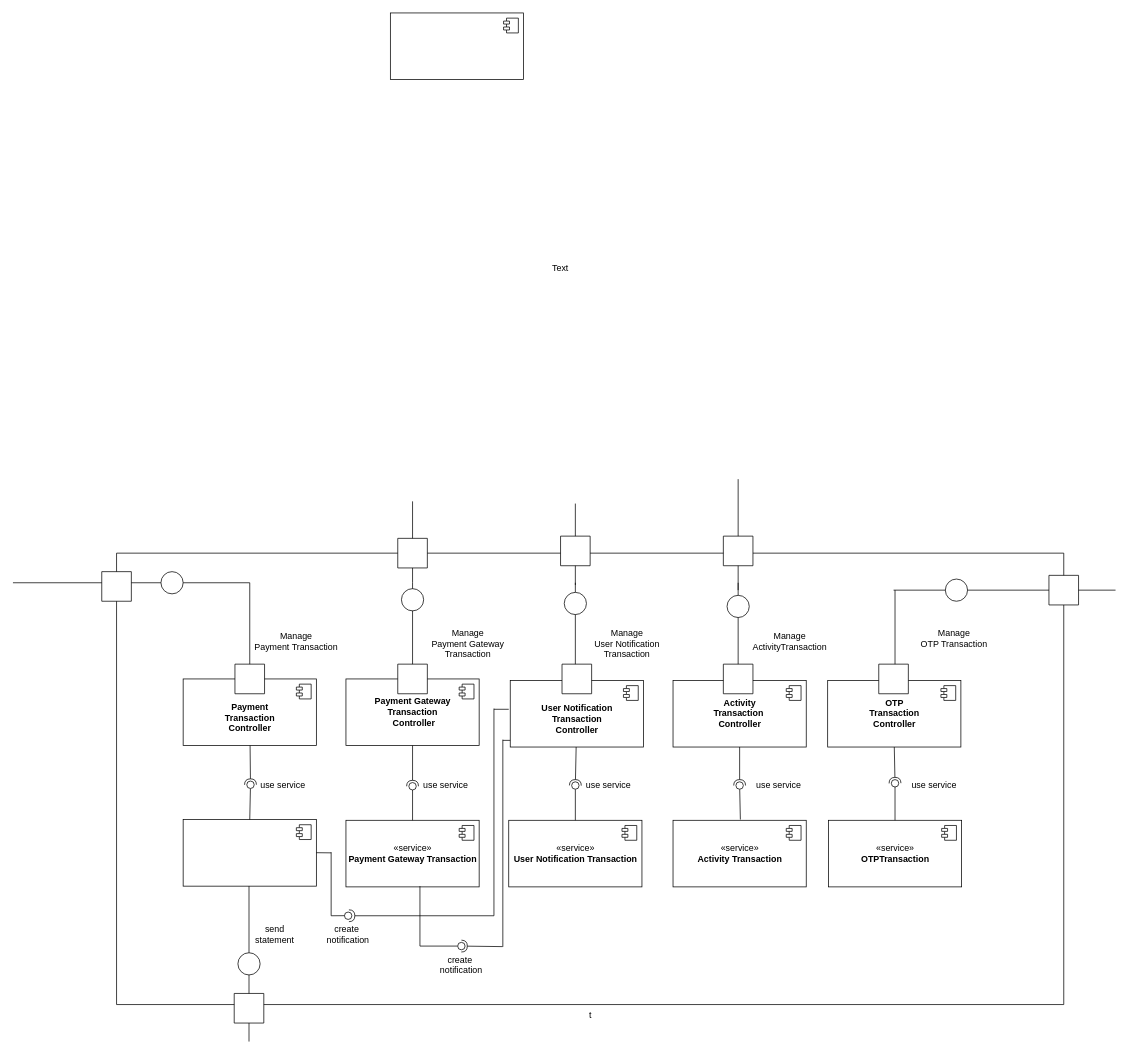
Some shapes in this 1129 by 1055 pixel diagram are drawn without their labels. The shapes that lost their labels are listed below. From the top down, each one's box as (x1, y1, x2, y2) in pixels, then its label:
(390, 12, 524, 80): create
(182, 819, 316, 886): «service» Payment Transaction
